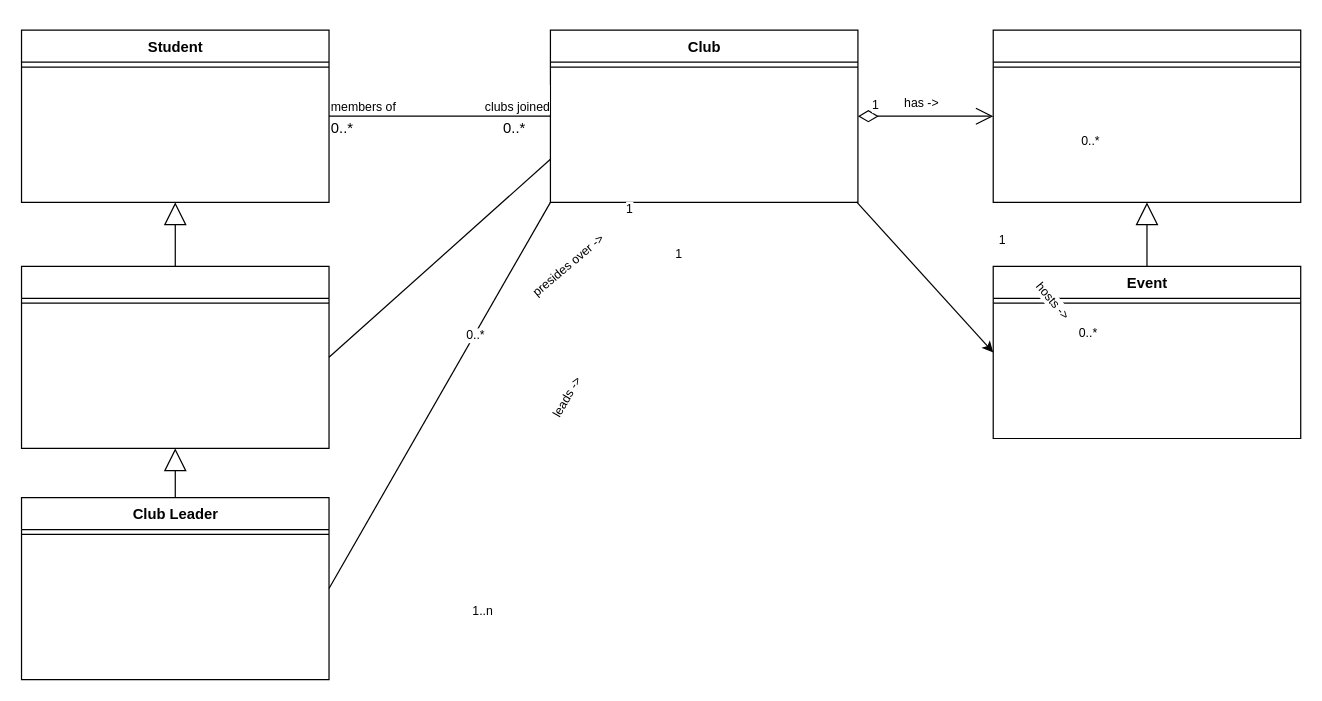
The diagram is 1322 pixels wide and 701 high, and some of its shapes have lost their labels. Each missing label, with the centre of its shape:
"Officer" belongs at pixel 174 356.
"Post" belongs at pixel 1146 115.
